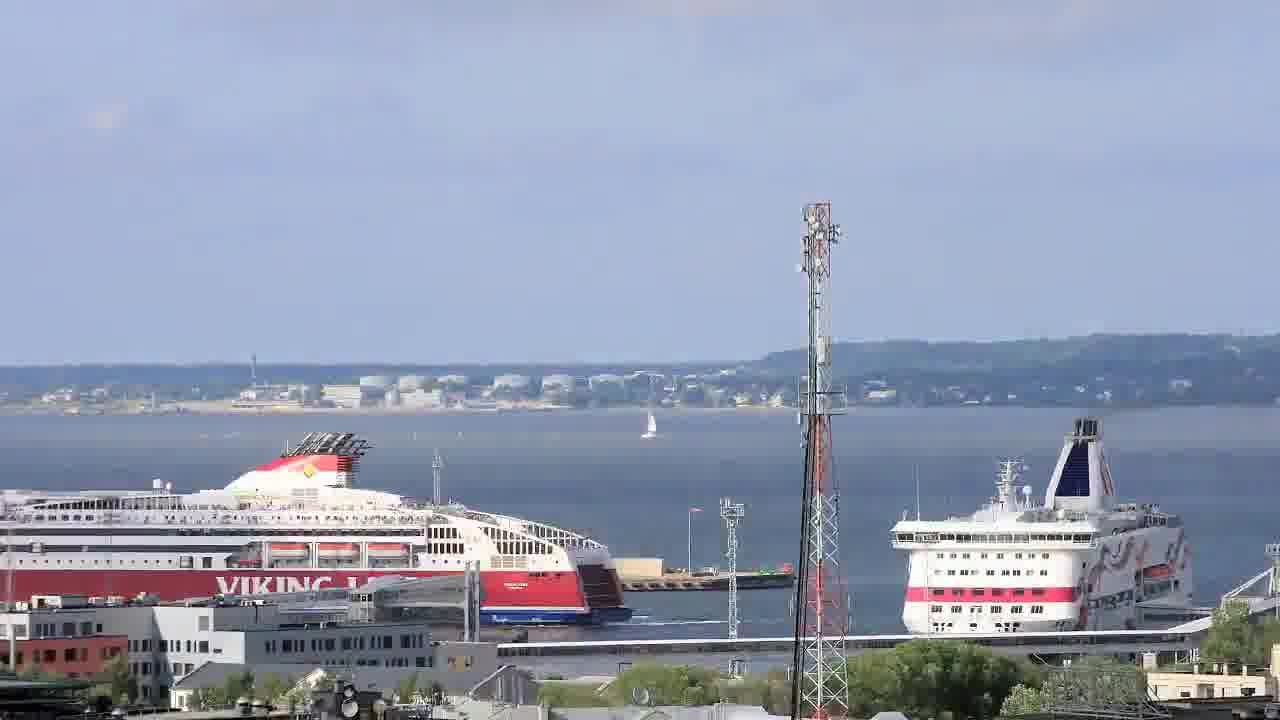type-2: (633, 391, 702, 454)
type-3: (0, 432, 632, 625), (868, 415, 1225, 638)
